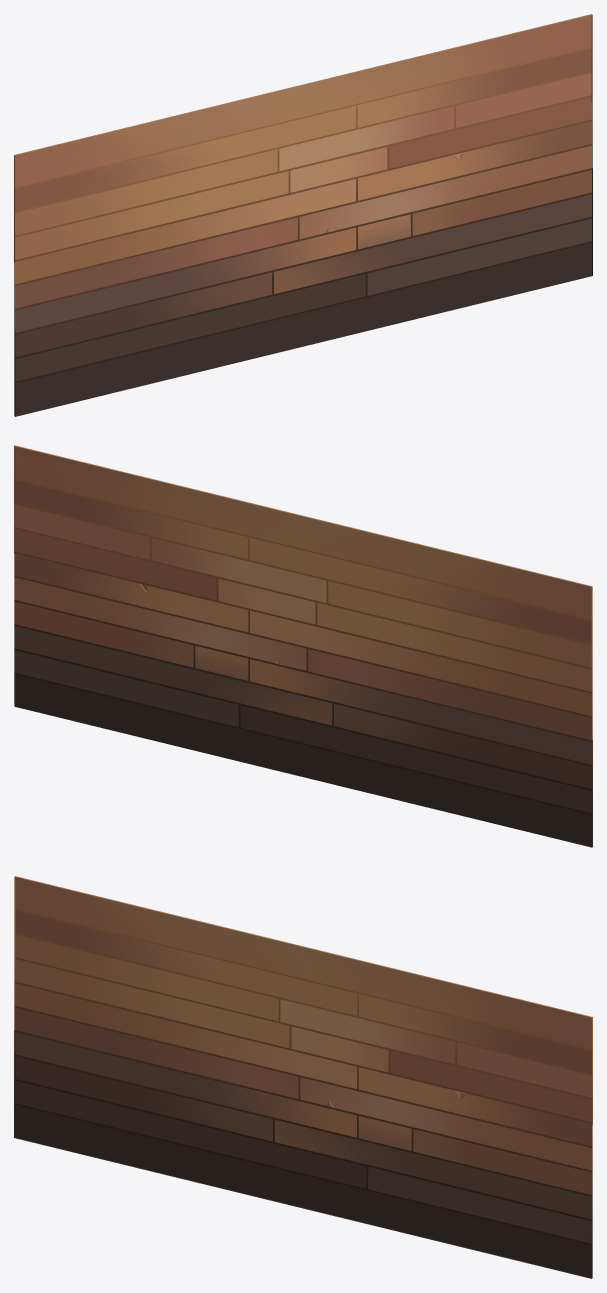
Rendered from Nutcracker_doll.FBX.
3 renders of one model, top to bottom at view 1: azimuth 30°, elevation 25°; view 2: azimuth 150°, elevation 25°; view 3: azimuth 330°, elevation 25°, orthographic.
Visible parts, largest first — view 1: Object034; view 2: Object034; view 3: Object034.
Boxes of the visible parts, x1,y1,x2,y2 form: Object034: (14, 14, 592, 416); Object034: (14, 445, 592, 847); Object034: (14, 876, 592, 1278).
Size of the model in its own units: 134 by 57.64 by 0.522.
1 material, 1 textured.
